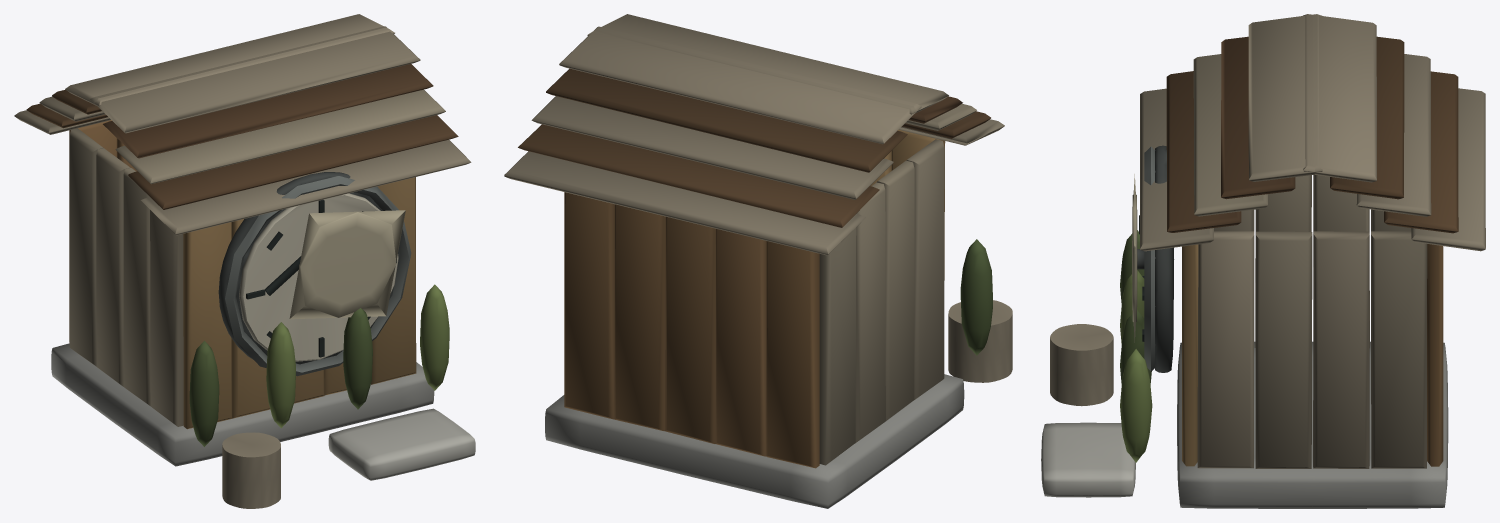
The model's file is gauge_dial_shed_c.glb.
The picture shows the model from 3 angles, left to right: view 1: azimuth 30°, elevation 25°; view 2: azimuth 150°, elevation 25°; view 3: azimuth 270°, elevation 25°; orthographic projection. The views are drawn at different scales.
Parts seen in each view (by area): view 1: Surface; view 2: Surface; view 3: Surface.
Part boxes in pixels (bbox=[...]): Surface: bbox=[14, 14, 475, 508]; Surface: bbox=[504, 14, 1012, 508]; Surface: bbox=[1041, 14, 1485, 508].
Size of the model in its own units: 2.71 by 2.88 by 3.28.
